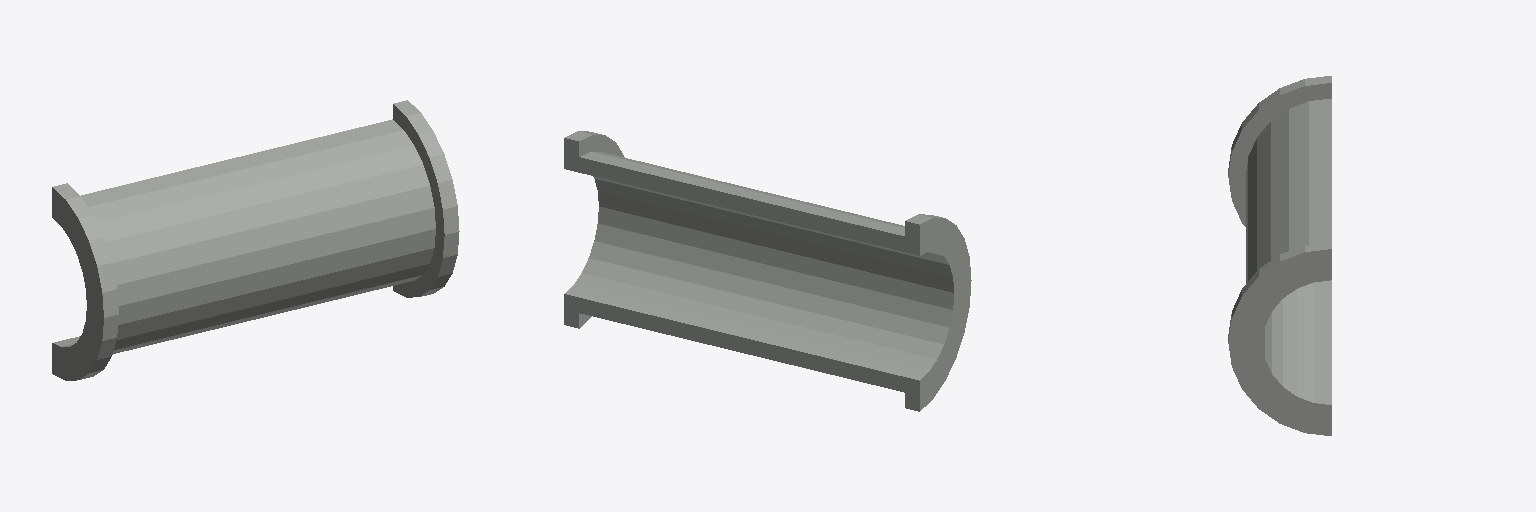
File: section_straight.obj
3 views of the same model, side by side, from view 1: azimuth 30°, elevation 25°; view 2: azimuth 150°, elevation 25°; view 3: azimuth 270°, elevation 25° (orthographic).
Visible parts, largest first — view 1: unnamed_object1; view 2: unnamed_object1; view 3: unnamed_object1.
Part boxes in pixels (x1,y1,x2,y2): unnamed_object1: (52, 100, 459, 380); unnamed_object1: (564, 131, 971, 411); unnamed_object1: (1228, 76, 1331, 435).
Size of the model in its own units: 23.83 by 12 by 6.